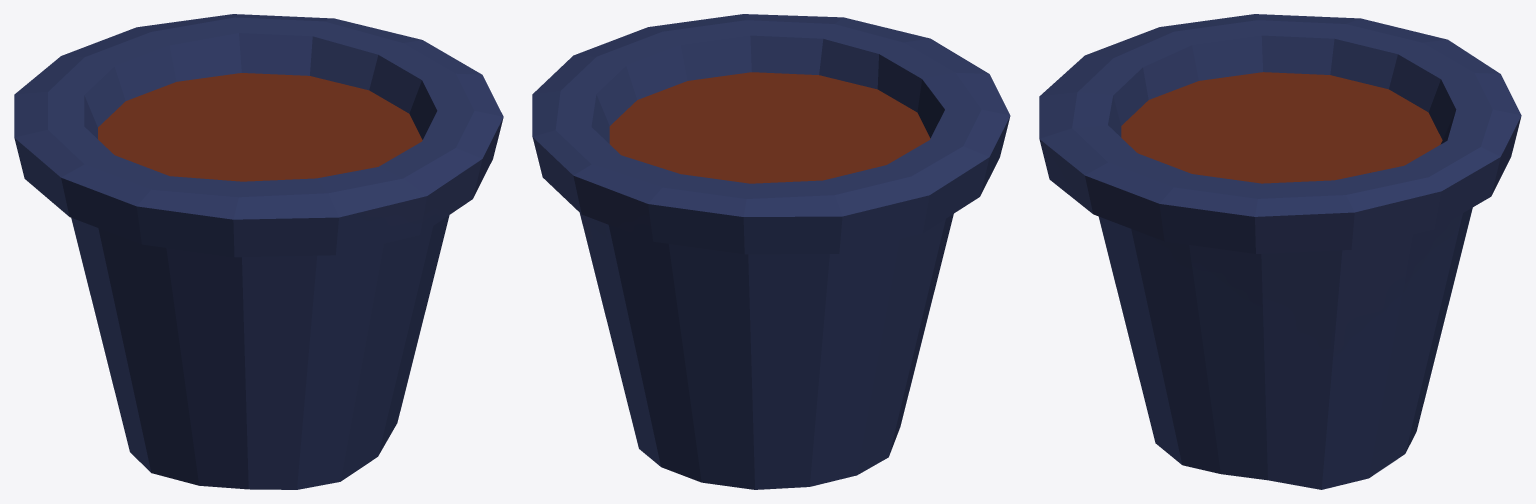
Rendered from Pot_1b_pot.fbx.
3 views of the same model, side by side, from view 1: azimuth 30°, elevation 25°; view 2: azimuth 150°, elevation 25°; view 3: azimuth 270°, elevation 25° (orthographic).
Visible parts, largest first — view 1: Sphere.001; view 2: Sphere.001; view 3: Sphere.001.
Part boxes in pixels (<box>): Sphere.001: <box>14,14,503,489</box>; Sphere.001: <box>532,14,1010,489</box>; Sphere.001: <box>1039,14,1521,489</box>.
Bounding box in the file's own units: 111 × 83.59 × 111.
